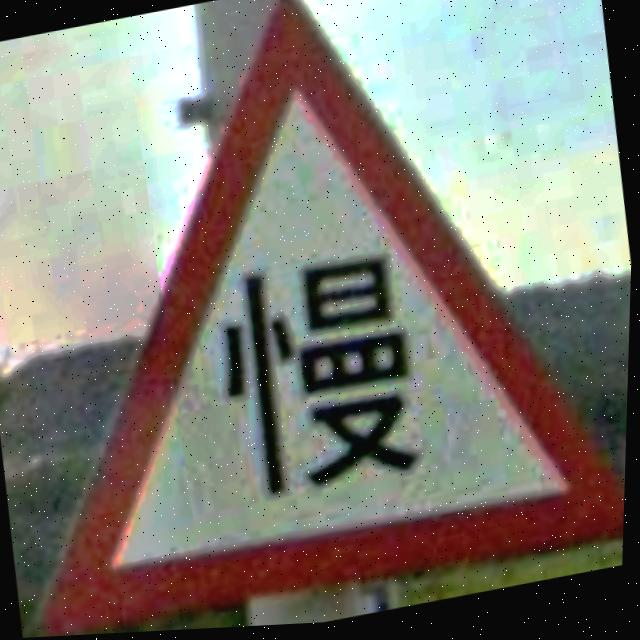slow: (46, 0, 628, 636)
